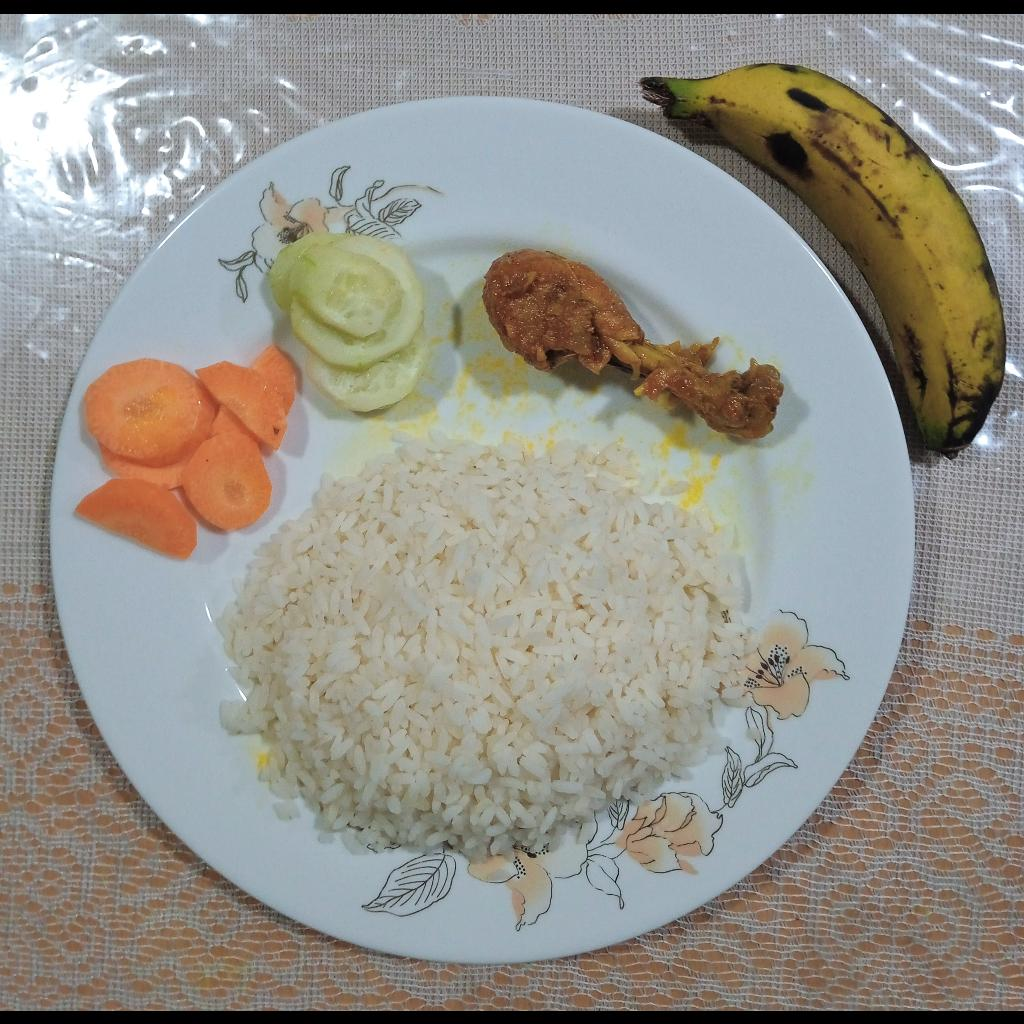banana: (643, 63, 1008, 460)
carrot: (71, 349, 298, 562)
chicken: (483, 246, 783, 438)
cucumber: (271, 233, 426, 414)
rice: (217, 439, 745, 856)
